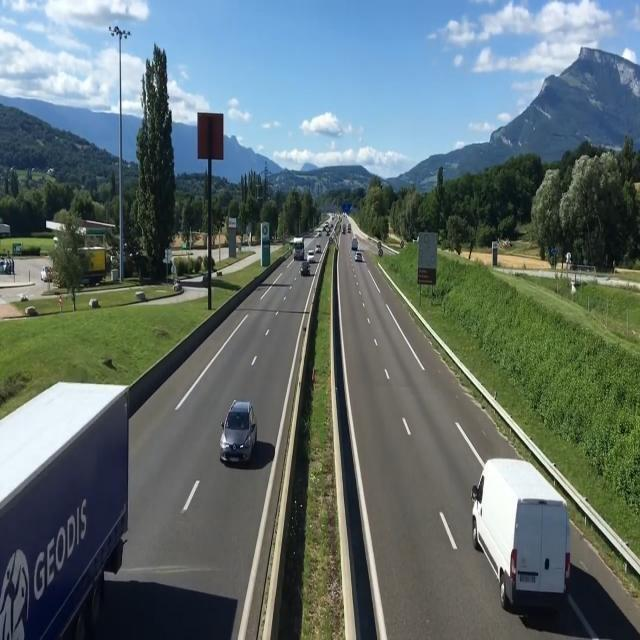Car: (199, 391, 267, 481), (297, 262, 312, 277), (306, 245, 317, 263), (354, 250, 366, 264), (313, 242, 324, 256)
Truck: (0, 346, 157, 640), (290, 238, 305, 262)
Van: (464, 447, 584, 619)
